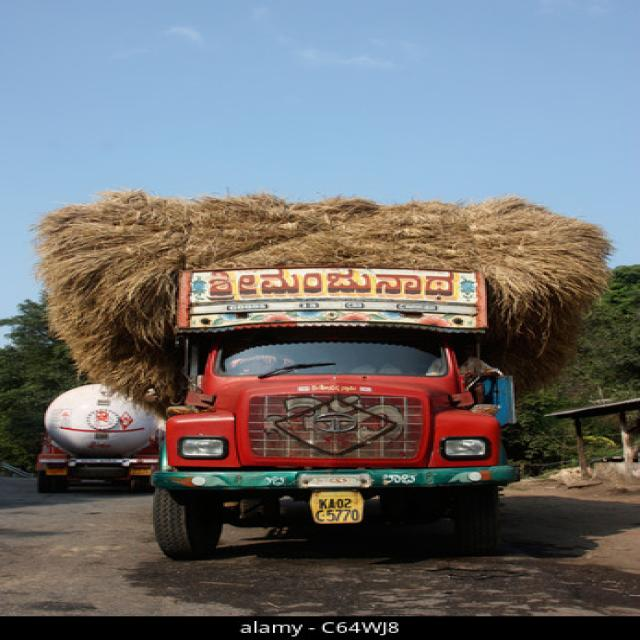normal_truck: (151, 263, 518, 562), (35, 384, 159, 493)
overloaded_truck: (33, 191, 612, 417)
